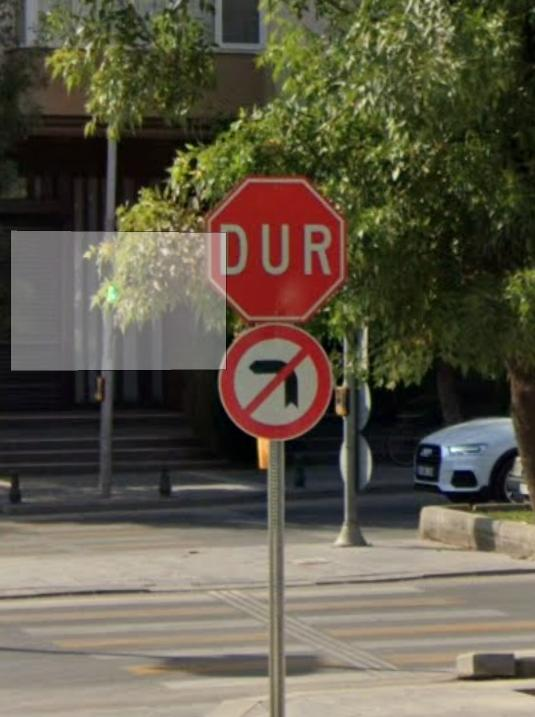leftturnsareforbidden: (216, 326, 335, 433)
stop: (206, 178, 347, 318)
